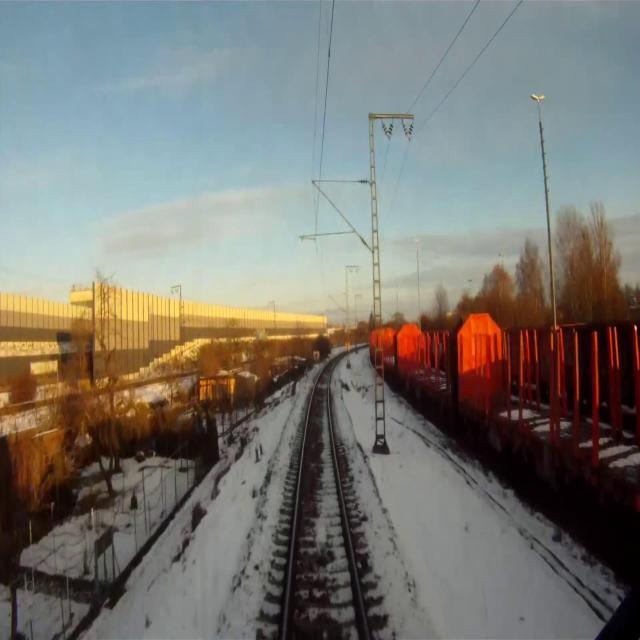rail-track: (287, 361, 364, 639)
